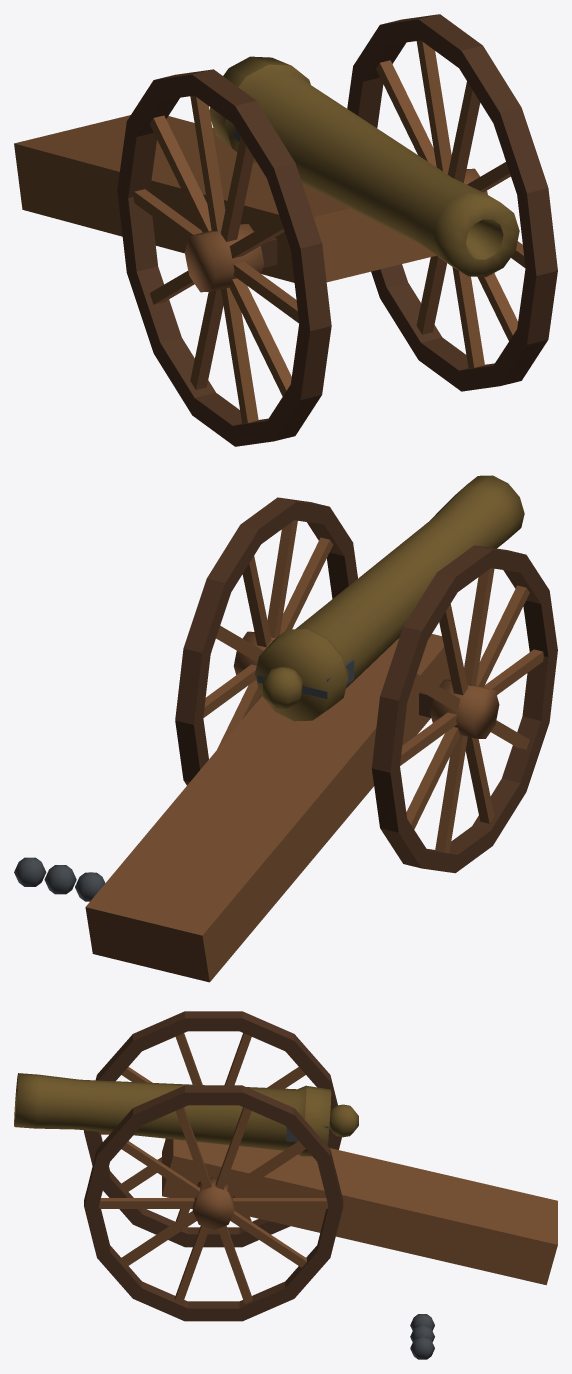
Rendered from harmata.glb.
3 views of the same model, one above another, from view 1: azimuth 30°, elevation 25°; view 2: azimuth 150°, elevation 25°; view 3: azimuth 270°, elevation 25° (orthographic). The views are drawn at different scales.
Visible parts, largest first — view 1: harmata; view 2: harmata; view 3: harmata.
Boxes of the visible parts, bbox=[...] form: harmata: bbox=[14, 14, 557, 446]; harmata: bbox=[14, 475, 557, 982]; harmata: bbox=[14, 1011, 557, 1359].
Size of the model in its own units: 1.42 by 1.22 by 2.6.
